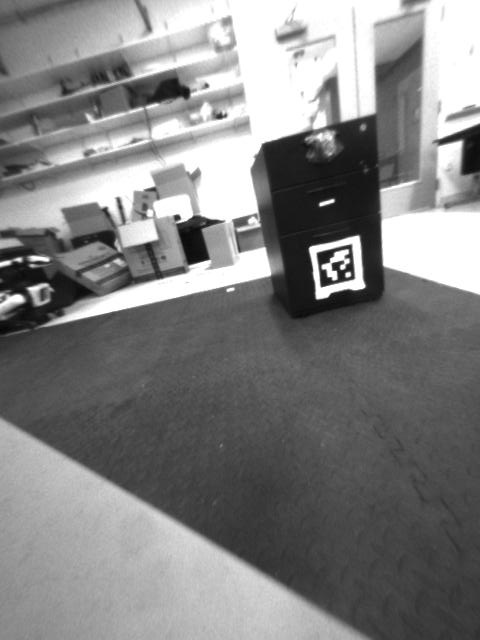drawer: (294, 127, 348, 170)
